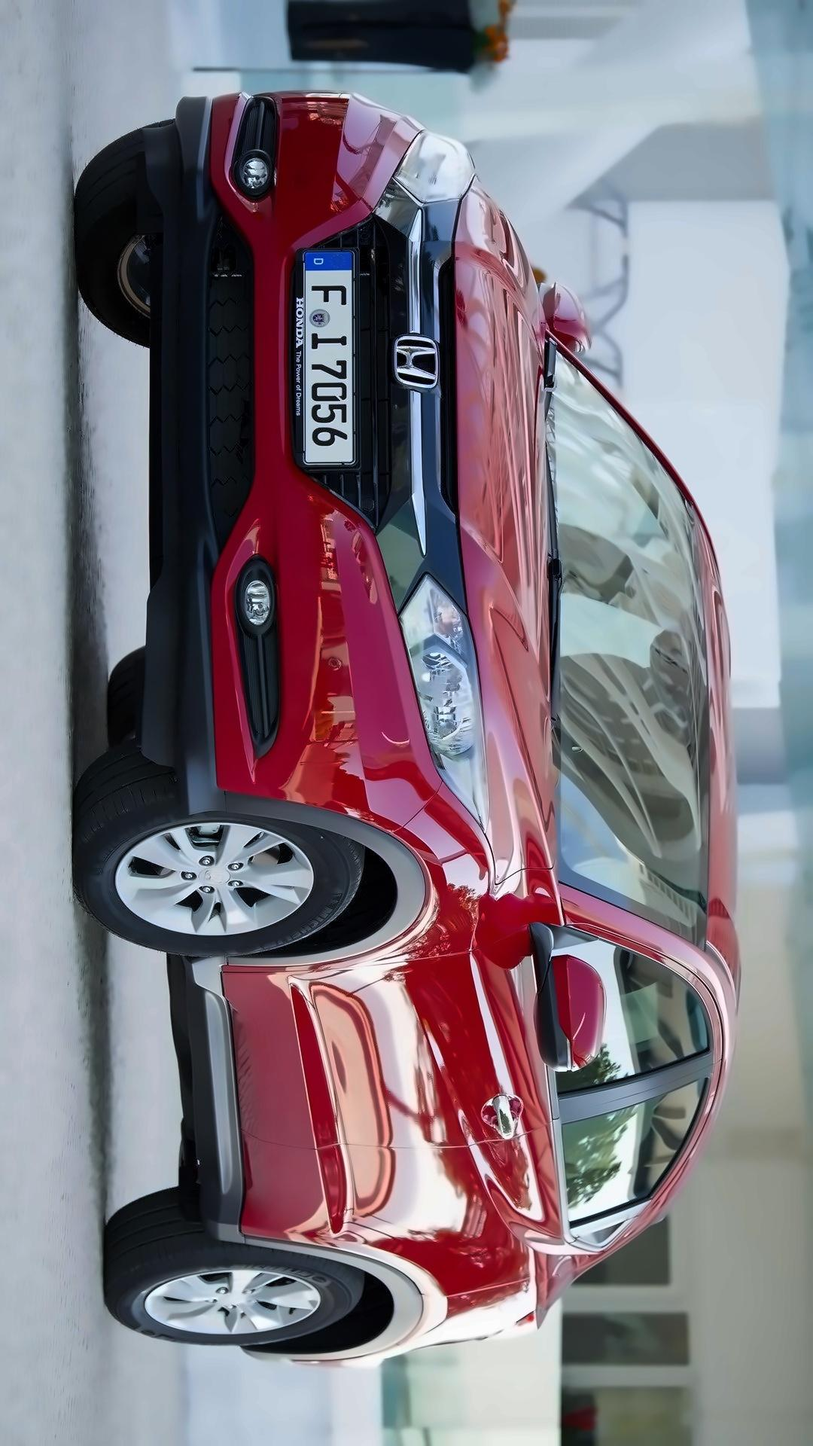Car hood: (454, 171, 562, 825)
Fender - -F-L-: (229, 709, 547, 1053)
Front bumper: (131, 61, 431, 832)
Headlight - -L-: (389, 558, 502, 870)
Headlight - -R-: (389, 113, 471, 207)
Passenger-s door - -F-L-: (129, 920, 739, 1128)
Passenger-s door - -R-L-: (170, 1047, 773, 1267)
Side bumper - -L-: (111, 932, 348, 1244)
Side mirror - -L-: (510, 934, 625, 1093)
